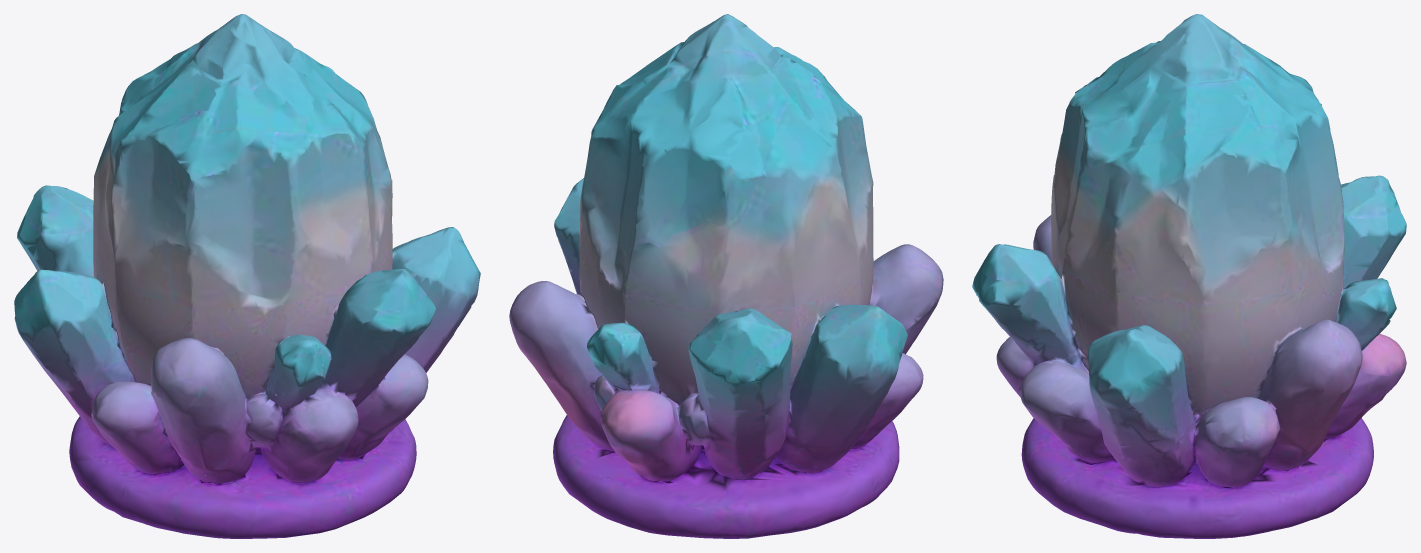
Rendered from prop_vibe_crystal_01.glb.
3 renders of one model, left to right at view 1: azimuth 30°, elevation 25°; view 2: azimuth 150°, elevation 25°; view 3: azimuth 270°, elevation 25°, orthographic.
Parts seen in each view (by area): view 1: prop_vibe_crystal_01; view 2: prop_vibe_crystal_01; view 3: prop_vibe_crystal_01.
Boxes of the visible parts, <box> form: prop_vibe_crystal_01: <box>14,14,480,538</box>; prop_vibe_crystal_01: <box>509,14,943,538</box>; prop_vibe_crystal_01: <box>972,14,1406,538</box>.
Bounding box in the file's own units: 0.7245 × 0.7998 × 0.6907.
Materials: 1 (1 with a texture image).
